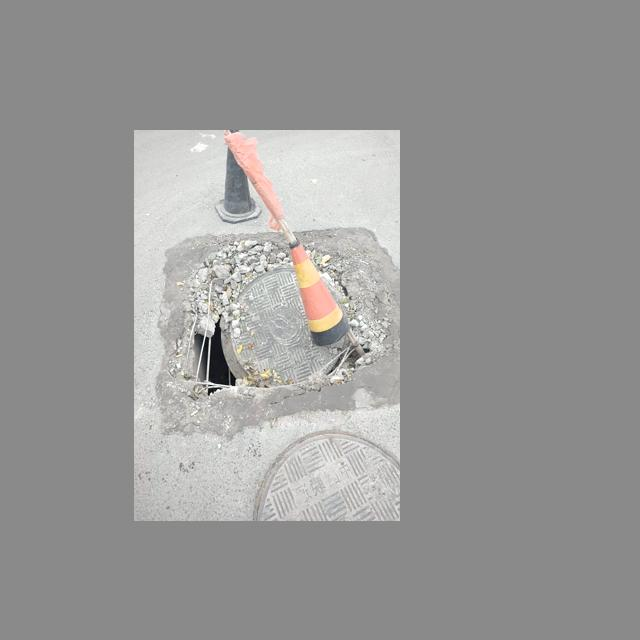circle: (191, 264, 360, 388)
